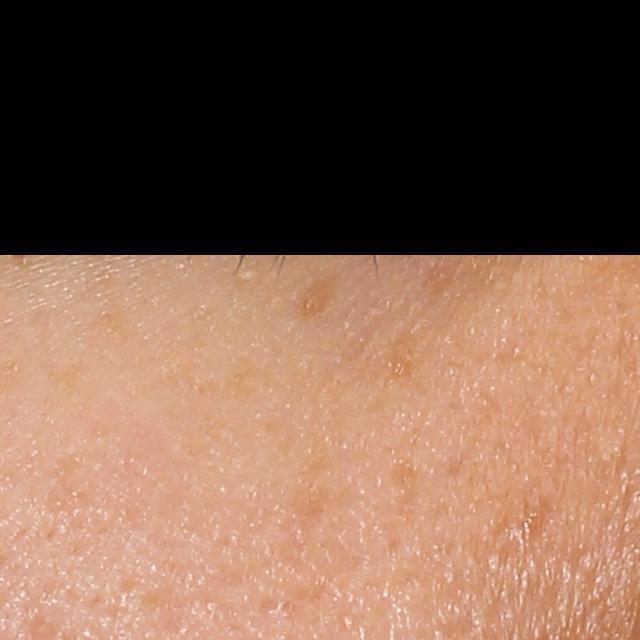melasma: (385, 323, 425, 378), (389, 459, 421, 525), (299, 270, 334, 322)
